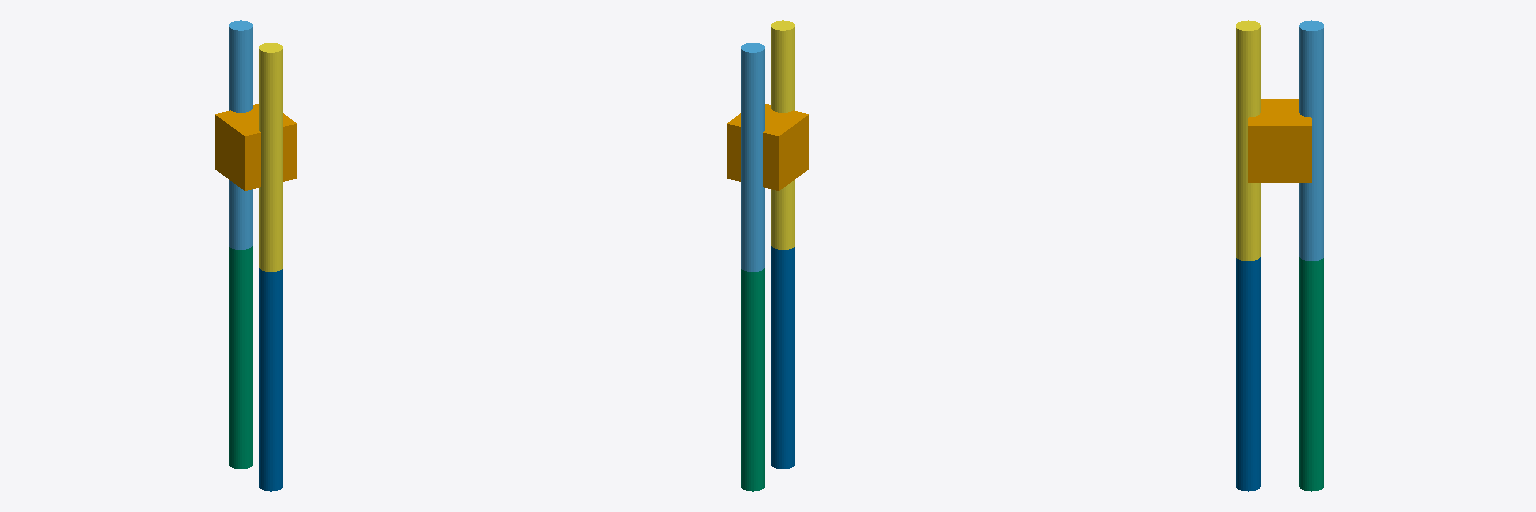
URDF robot description (simple_bipedal_robot):
<?xml version="1.0"?>
<robot name="simple_bipedal_robot">

  <!-- Base Link -->
  <link name="base_link">
    <visual>
      <geometry>
        <box size="0.1 0.1 0.1"/>
      </geometry>
    </visual>
  </link>

  <!-- Left Leg -->
  <joint name="left_hip_joint" type="revolute">
    <parent link="base_link"/>
    <child link="left_thigh_link"/>
    <origin xyz="0 0.05 0" rpy="0 0 0"/>
    <axis xyz="0 1 0"/>
    <limit lower="-0.5" upper="0.5" effort="10" velocity="1"/>
    <dynamics damping="0.1" friction="0.1"/>
  </joint>

  <link name="left_thigh_link">
    <visual>
      <geometry>
        <cylinder radius="0.02" length="0.4"/>
      </geometry>
    </visual>
  </link>

  <joint name="left_knee_joint" type="revolute">
    <parent link="left_thigh_link"/>
    <child link="left_shin_link"/>
    <origin xyz="0 0 -0.4" rpy="0 0 0"/>
    <axis xyz="0 1 0"/>
    <limit lower="-0.5" upper="0.5" effort="10" velocity="1"/>
    <dynamics damping="0.1" friction="0.1"/>
  </joint>

  <link name="left_shin_link">
    <visual>
      <geometry>
        <cylinder radius="0.02" length="0.4"/>
      </geometry>
    </visual>
  </link>

  <!-- Right Leg -->
  <joint name="right_hip_joint" type="revolute">
    <parent link="base_link"/>
    <child link="right_thigh_link"/>
    <origin xyz="0 -0.05 0" rpy="0 0 0"/>
    <axis xyz="0 1 0"/>
    <limit lower="-0.5" upper="0.5" effort="10" velocity="1"/>
    <dynamics damping="0.1" friction="0.1"/>
  </joint>

  <link name="right_thigh_link">
    <visual>
      <geometry>
        <cylinder radius="0.02" length="0.4"/>
      </geometry>
    </visual>
  </link>

  <joint name="right_knee_joint" type="revolute">
    <parent link="right_thigh_link"/>
    <child link="right_shin_link"/>
    <origin xyz="0 0 -0.4" rpy="0 0 0"/>
    <axis xyz="0 1 0"/>
    <limit lower="-0.5" upper="0.5" effort="10" velocity="1"/>
    <dynamics damping="0.1" friction="0.1"/>
  </joint>

  <link name="right_shin_link">
    <visual>
      <geometry>
        <cylinder radius="0.02" length="0.4"/>
      </geometry>
    </visual>
  </link>

</robot>

--- Render facts (derived) ---
Views: 3 orthographic renders of the robot side by side, from view 1: azimuth 30°, elevation 25°; view 2: azimuth 150°, elevation 25°; view 3: azimuth 270°, elevation 25°.
Robot: simple_bipedal_robot — 5 links, 4 joints (4 revolute); root link base_link; default pose: all joints at 0.
Visible links, largest first — view 1: right_thigh_link, right_shin_link, left_shin_link, base_link, left_thigh_link; view 2: left_thigh_link, left_shin_link, right_shin_link, base_link, right_thigh_link; view 3: left_shin_link, right_shin_link, left_thigh_link, right_thigh_link, base_link.
Link boxes in pixels (x1,y1,x2,y2): right_thigh_link: (259,43,282,271); right_shin_link: (259,268,282,491); left_shin_link: (229,246,252,468); base_link: (215,104,296,190); left_thigh_link: (229,20,252,249); left_thigh_link: (741,43,764,271); left_shin_link: (741,268,764,491); right_shin_link: (771,246,794,468); base_link: (727,104,808,190); right_thigh_link: (771,20,794,249); left_shin_link: (1299,257,1323,491); right_shin_link: (1236,257,1260,491); left_thigh_link: (1299,20,1323,260); right_thigh_link: (1236,20,1260,260); base_link: (1248,99,1311,182).
Bounding box of the posed robot: 0.1 × 0.14 × 0.8 m (x, y, z).
Geometry: primitives only (box / cylinder / sphere), no mesh files.